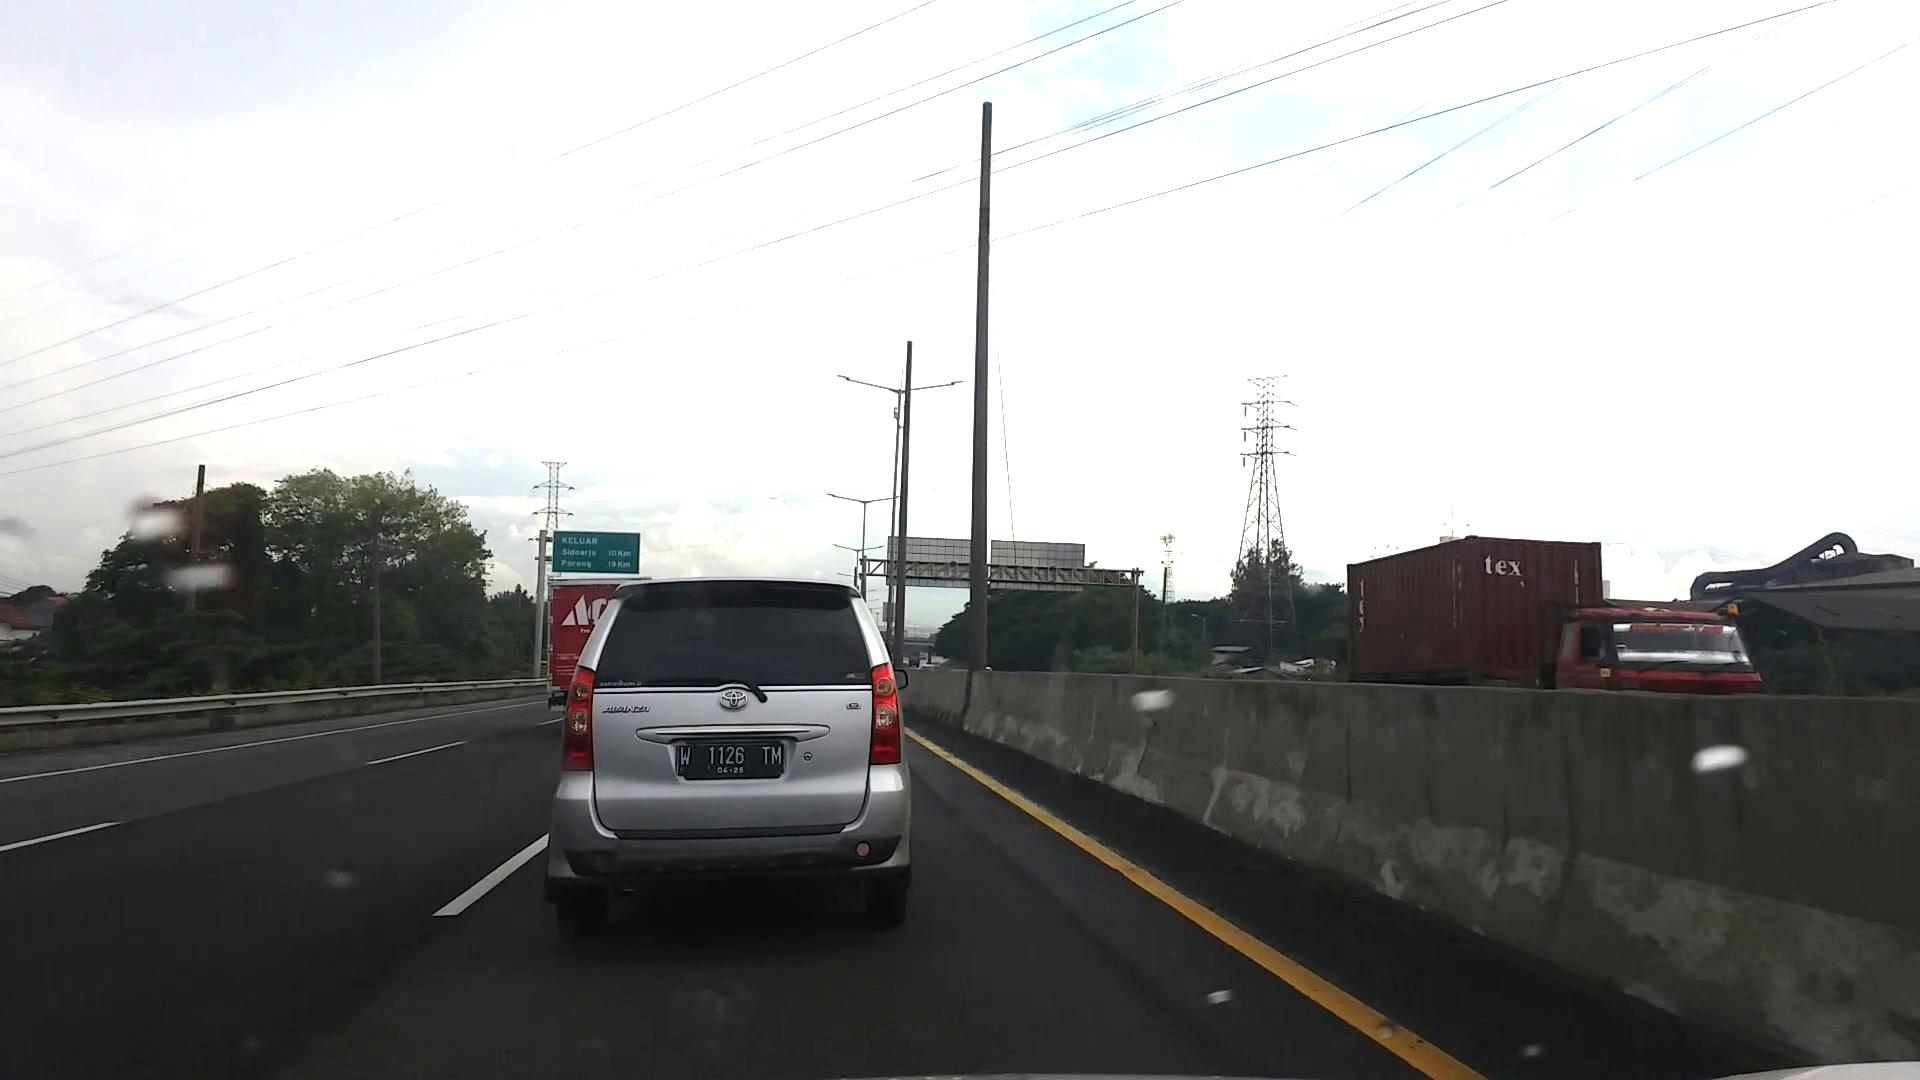plate_positive: (675, 742, 783, 779)
